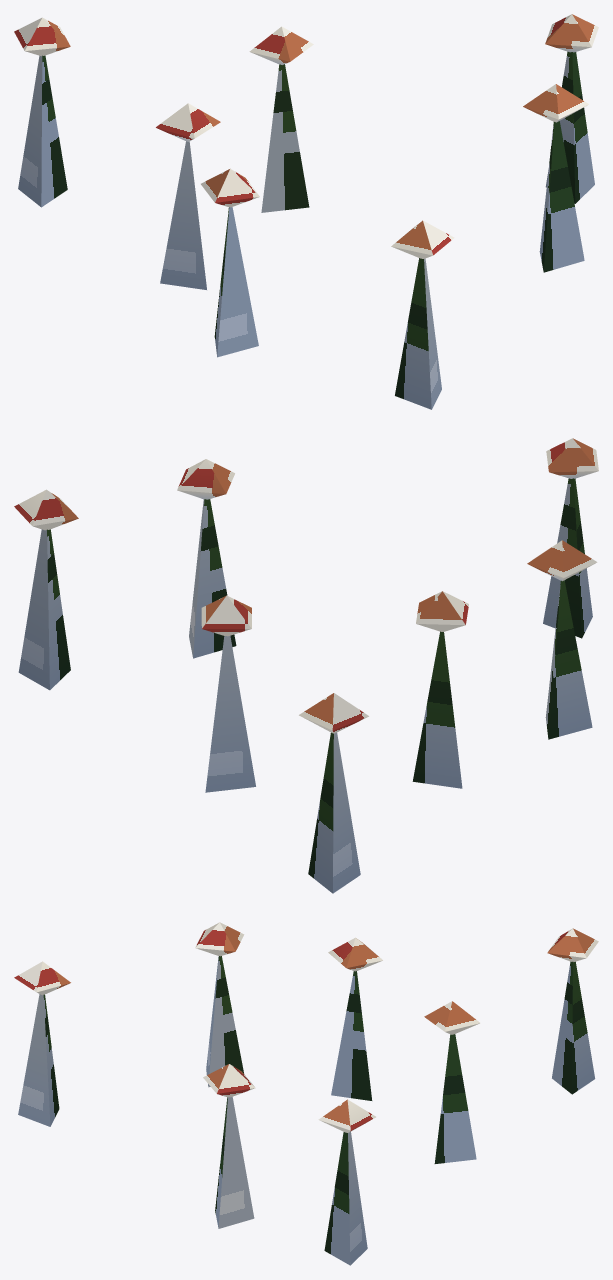
Rendered from mnat.flowers.glb.
3 renders of one model, top to bottom at view 1: azimuth 30°, elevation 25°; view 2: azimuth 150°, elevation 25°; view 3: azimuth 270°, elevation 25°, orthographic. The views are drawn at different scales.
Parts seen in each view (by area): view 1: kit_plants, kit_heads; view 2: kit_plants, kit_heads; view 3: kit_plants, kit_heads.
Boxes of the visible parts, x1,y1,x2,y2 form: kit_plants: (18, 51, 594, 409); kit_heads: (14, 14, 598, 258); kit_plants: (18, 478, 592, 893); kit_heads: (14, 438, 598, 733); kit_plants: (18, 956, 595, 1265); kit_heads: (14, 922, 598, 1132).
Bounding box in the file's own units: 1.13 × 0.41 × 1.4.
2 materials, 2 textured.
